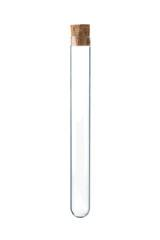Test tube: (63, 29, 100, 220)
